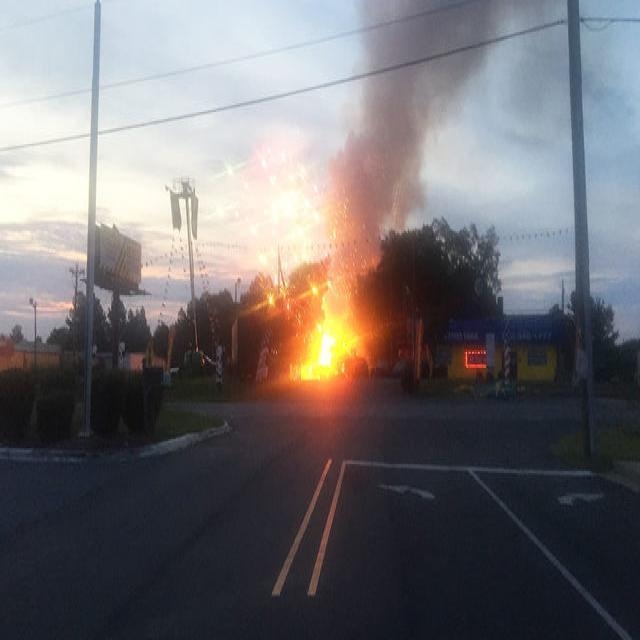Fire: (304, 312, 361, 378)
Smoke: (317, 9, 529, 236)
